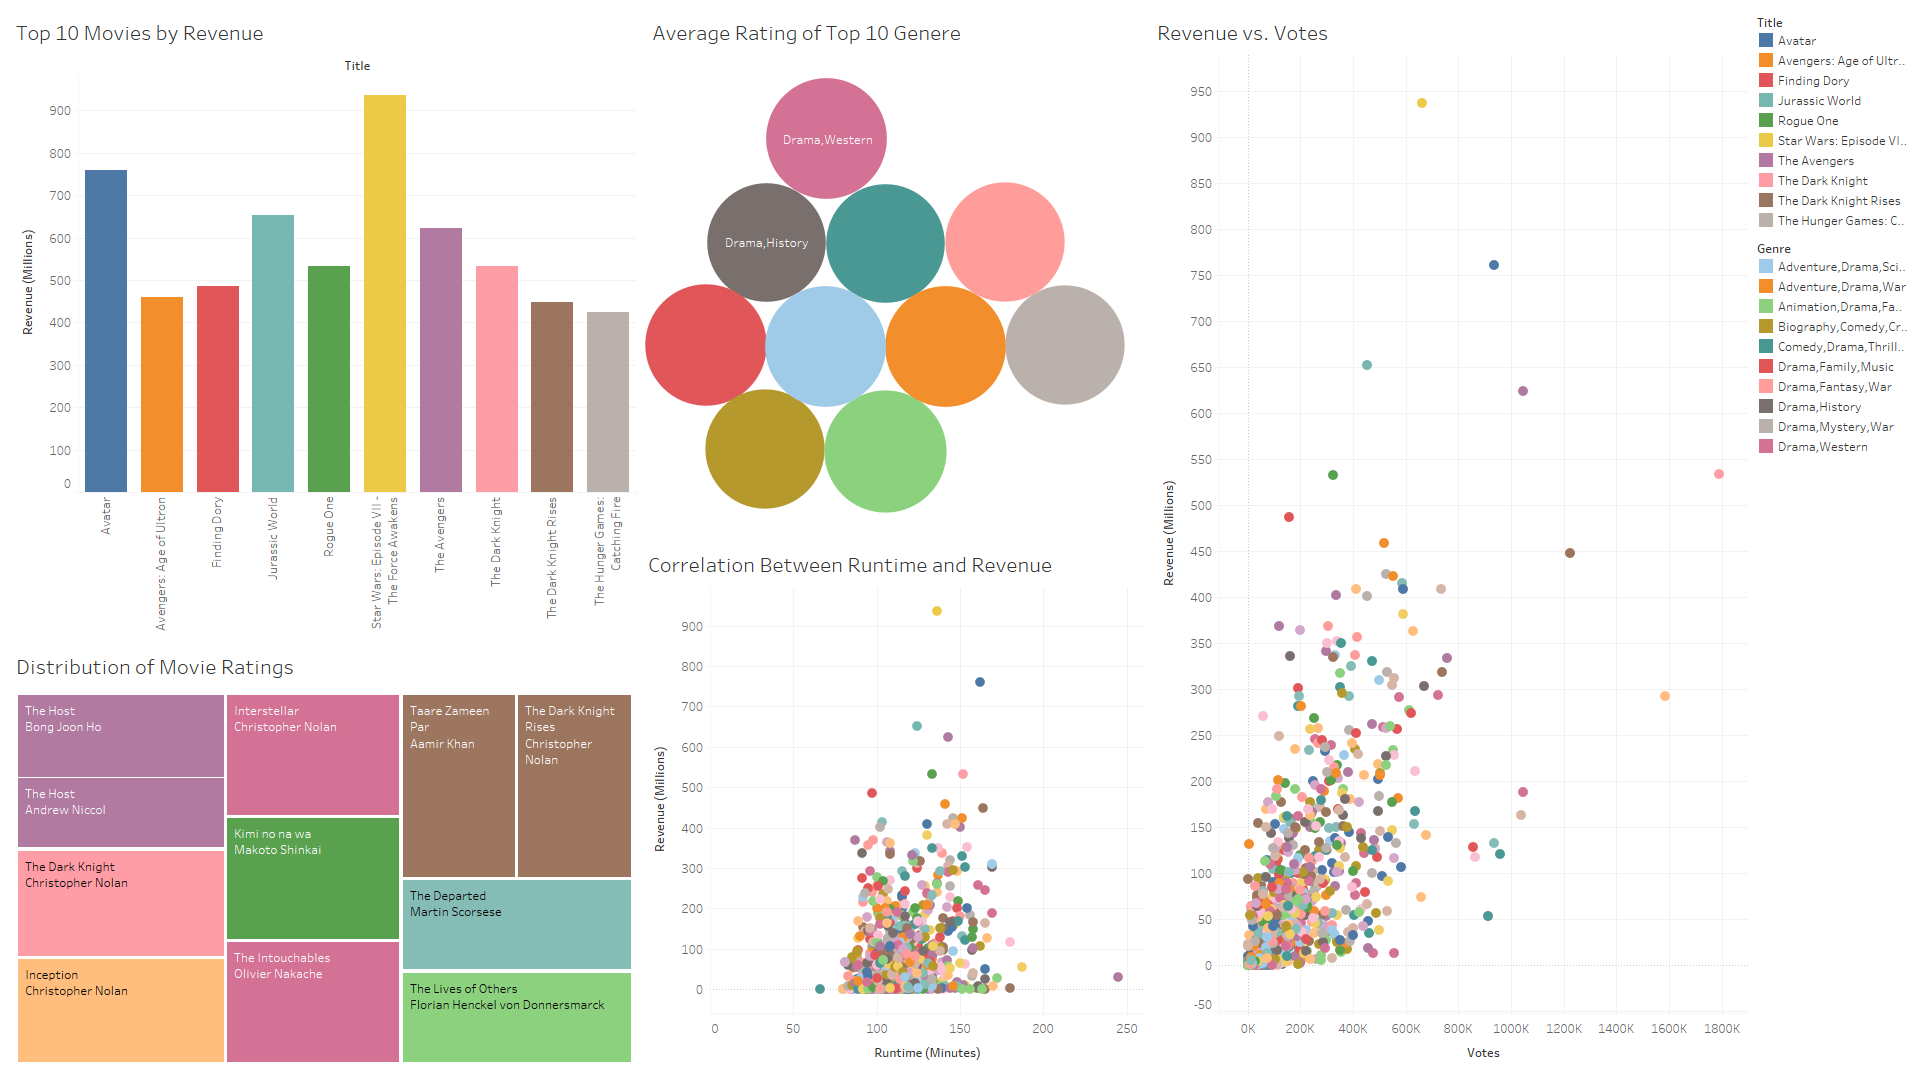

The page's visual inventory and layout, read from the dashboard file:
{"tool":"tableau","page":{"name":"Dashboard 1","canvas":[1920,1080],"ordinal":0},"visuals":[{"type":"worksheet","title":"Top 10 Movies by Revenue","mark":"Automatic","rows":["Revenue (Millions)"],"cols":["Title"],"box":[8,8,632,634]},{"type":"worksheet","title":" Average Rating of Top 10 Genere","mark":"Circle","box":[640,8,509,532]},{"type":"worksheet","title":"Revenue vs. Votes","mark":"Circle","rows":["Revenue (Millions)"],"cols":["Votes"],"box":[1149,8,603,1064]},{"type":"legend","title":"Top 10 Movies by Revenue","param":"[federated.0fsdjye1e2b9651fpqsuk0qqau2t].[none:Title:nk]","box":[1752,8,160,226]},{"type":"legend","title":" Average Rating of Top 10 Genere","param":"[federated.0fsdjye1e2b9651fpqsuk0qqau2t].[none:Genre:nk]","box":[1752,234,160,226]},{"type":"worksheet","title":"Correlation Between Runtime and Revenue","mark":"Automatic","rows":["Revenue (Millions)"],"cols":["Runtime (Minutes)"],"box":[640,540,509,532]},{"type":"worksheet","title":"Distribution of Movie Ratings","mark":"Automatic","box":[8,642,632,430]}]}

Visuals, with their boxes in screenshot pixels (x1, y1, x2, y2), scaled from the page's 1920x1080 canvas onto the 1920x1080 screenshot:
"Top 10 Movies by Revenue" worksheet: BBox(8, 8, 640, 642)
" Average Rating of Top 10 Genere" worksheet (Circle marks): BBox(640, 8, 1149, 540)
"Revenue vs. Votes" worksheet (Circle marks): BBox(1149, 8, 1752, 1072)
"Top 10 Movies by Revenue" legend: BBox(1752, 8, 1912, 234)
" Average Rating of Top 10 Genere" legend: BBox(1752, 234, 1912, 460)
"Correlation Between Runtime and Revenue" worksheet: BBox(640, 540, 1149, 1072)
"Distribution of Movie Ratings" worksheet: BBox(8, 642, 640, 1072)
